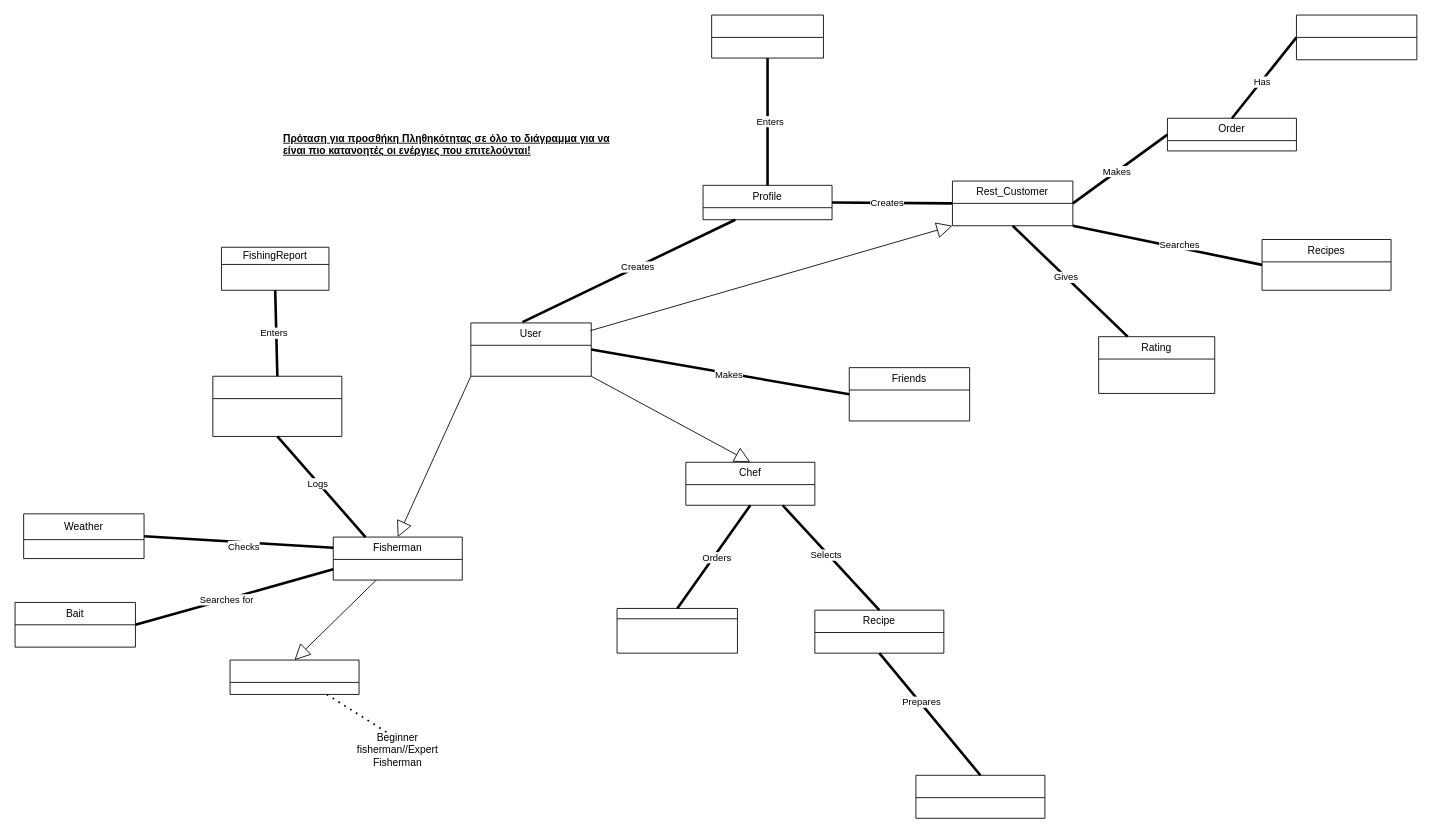
The diagram is 1432 pixels wide and 833 high, and some of its shapes have lost their labels. The shapes that lost their labels are listed below. From the top down, each one's centre as x and y in pixels, then its label:
At [767,36]: "Personal Info".
At [1356,37]: "Confirmation".
At [277,405]: "Fish".
At [676,630]: "ingredients".
At [294,676]: "Fishing expertice".
At [980,796]: "Dish".
